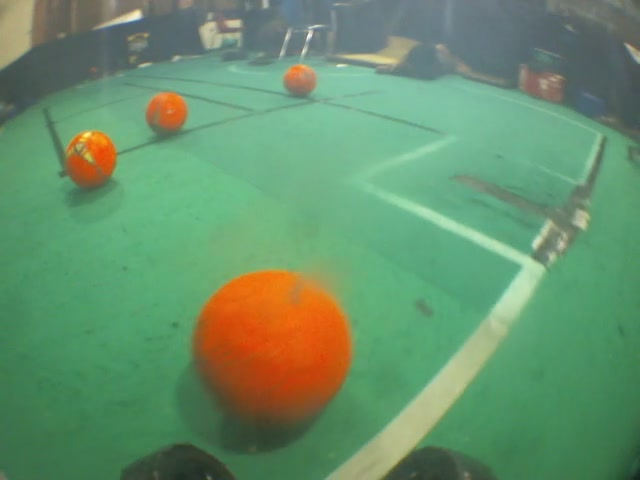ball: (185, 266, 358, 433), (60, 129, 119, 191), (141, 88, 192, 140), (280, 59, 319, 100)
